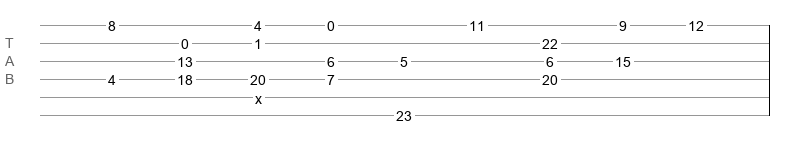0: (181, 36, 189, 46), (327, 18, 335, 28)
1: (254, 36, 262, 46)
11: (469, 18, 485, 28)
12: (688, 18, 704, 28)
13: (177, 54, 193, 64)
15: (615, 54, 631, 64)
18: (177, 72, 193, 82)
20: (250, 72, 266, 82), (542, 72, 558, 82)
22: (542, 36, 558, 46)
23: (396, 108, 412, 118)
4: (108, 72, 116, 82), (254, 18, 262, 28)
5: (400, 54, 408, 64)
6: (327, 54, 335, 64), (546, 54, 554, 64)
7: (327, 72, 335, 82)
8: (108, 18, 116, 28)
9: (619, 18, 627, 28)
x: (255, 91, 262, 99)
